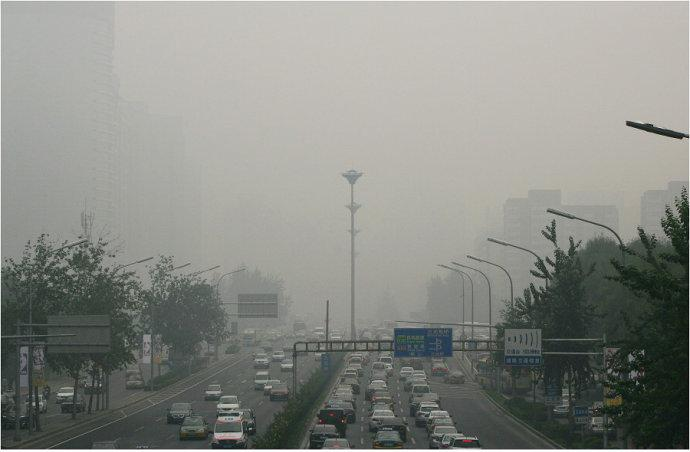bus: (470, 355, 532, 395), (292, 320, 307, 339)
car: (208, 410, 249, 451), (316, 408, 348, 438), (583, 415, 619, 440), (1, 403, 35, 429), (375, 417, 409, 442), (177, 414, 208, 441), (231, 409, 259, 438), (214, 395, 243, 422), (369, 426, 403, 449), (308, 423, 338, 448), (368, 410, 398, 434), (165, 401, 194, 425), (428, 424, 458, 447), (407, 395, 438, 417), (414, 403, 441, 428), (427, 415, 456, 438), (446, 435, 485, 452), (330, 401, 356, 425), (22, 392, 47, 415), (369, 401, 395, 423), (425, 410, 453, 430), (407, 384, 432, 406), (60, 393, 87, 412), (438, 432, 467, 449), (368, 360, 389, 383), (82, 375, 106, 395), (370, 390, 396, 408), (441, 369, 466, 387), (268, 382, 290, 402), (55, 385, 77, 405), (202, 383, 225, 402), (252, 370, 272, 391), (363, 383, 386, 400), (125, 373, 146, 391), (319, 437, 353, 448), (330, 388, 353, 403), (262, 378, 282, 395), (403, 376, 427, 390), (552, 404, 576, 418), (342, 378, 360, 396), (406, 356, 425, 373), (251, 352, 270, 369), (376, 355, 394, 372), (346, 363, 365, 379), (428, 361, 448, 376), (342, 368, 358, 386), (367, 379, 387, 393), (409, 368, 427, 383), (348, 353, 364, 369), (398, 366, 415, 381), (125, 362, 141, 377), (313, 347, 328, 362), (311, 326, 326, 340), (377, 364, 393, 377), (279, 358, 294, 371), (271, 350, 286, 363), (329, 332, 344, 345), (203, 345, 218, 356)
